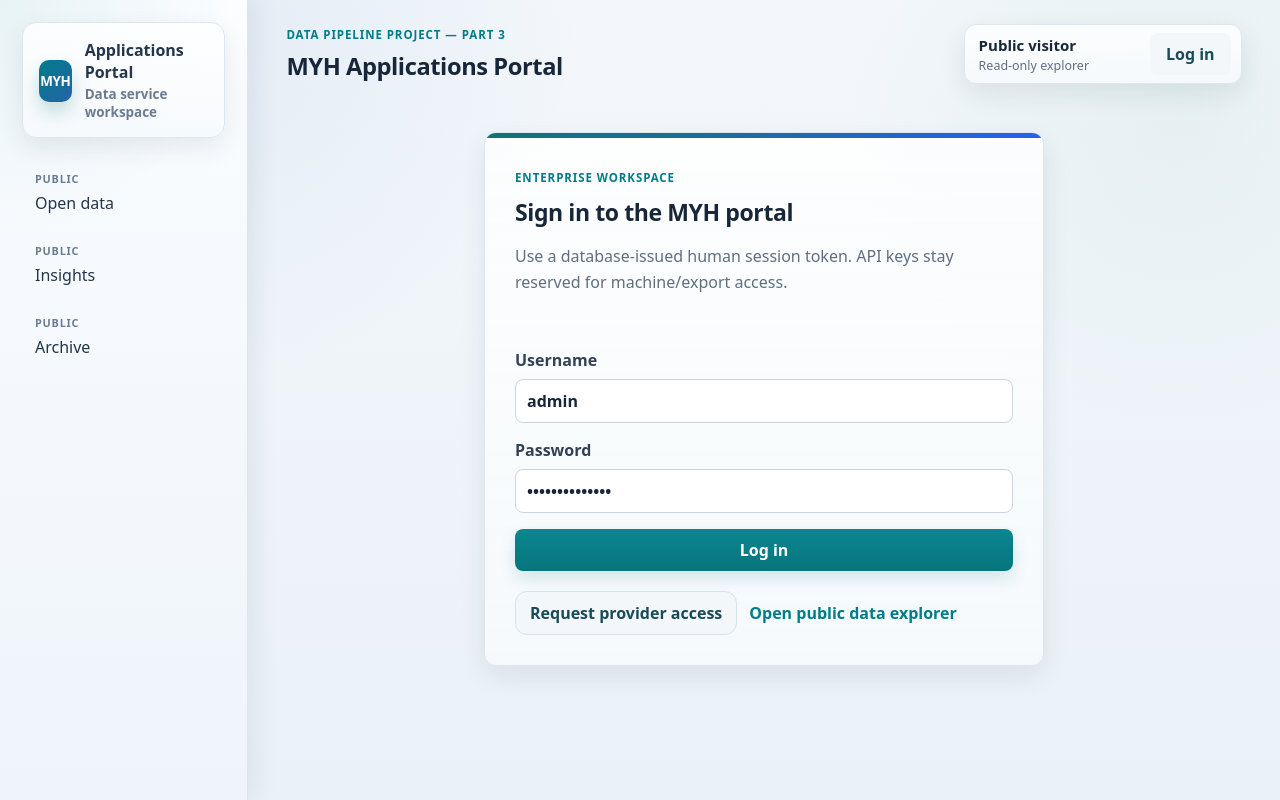
Scenario: admin login routes to the admin workspace
This screenshot has width=1280, height=800.
Click the button "Log in" below "Password".
click(764, 550)  # box x1=515 y1=530 x2=1013 y2=572
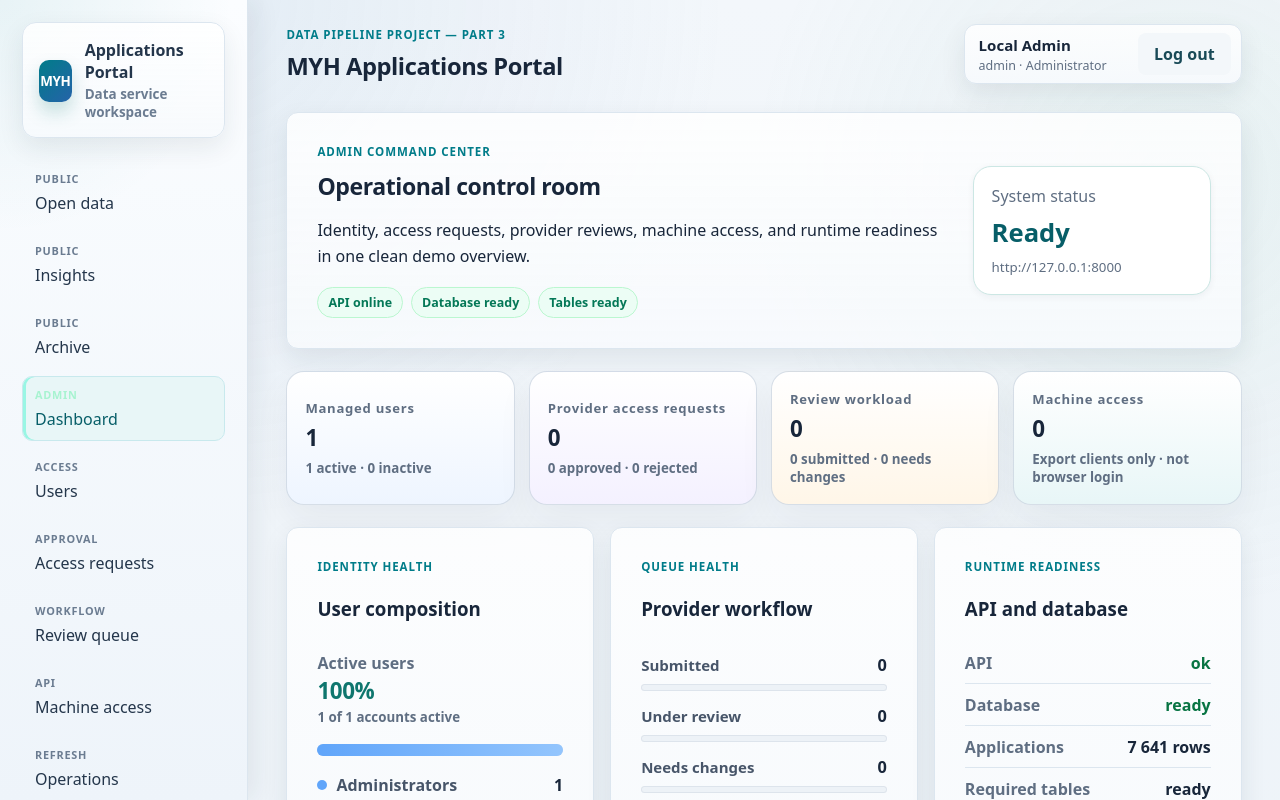
expect the heading "Operational control room" is shown: met, box x1=317 y1=170 x2=601 y2=202
expect the text "Identity, access requests, provider reviews" is shown: met, box x1=317 y1=219 x2=937 y2=266
